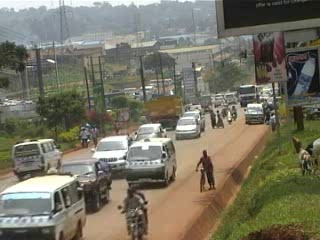Car: (89, 130, 132, 178), (171, 115, 203, 142), (182, 108, 206, 135), (131, 130, 167, 146)
Motorcycle: (117, 186, 153, 240), (225, 103, 233, 127), (221, 102, 230, 121), (230, 102, 238, 122)
